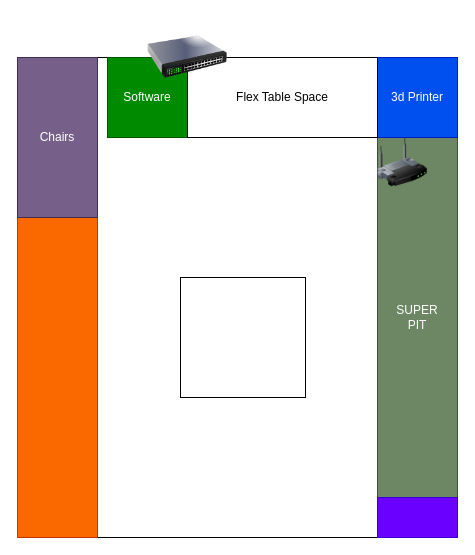
This 475x555 diagram has some shape labels left out. Here are the shapes that lost their labels. From the top down, the centre of each, then its label:
point 243,337: Robot
point 57,377: Packouts
point 417,517: Displays
